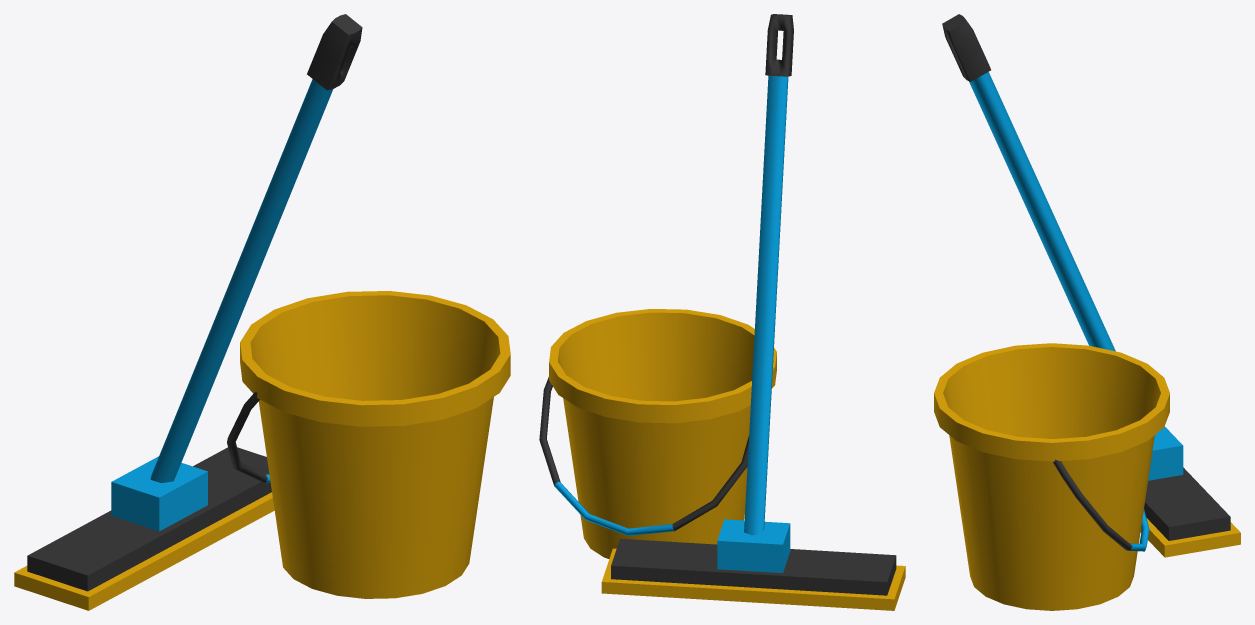
The model's file is Mop.fbx.
3 views of the same model, side by side, from view 1: azimuth 30°, elevation 25°; view 2: azimuth 150°, elevation 25°; view 3: azimuth 270°, elevation 25° (orthographic). The views are drawn at different scales.
Visible parts, largest first — view 1: Mop; view 2: Mop; view 3: Mop.
Boxes of the visible parts, bbox=[...] form: Mop: bbox=[14, 14, 510, 610]; Mop: bbox=[539, 14, 905, 610]; Mop: bbox=[934, 14, 1240, 610].
Size of the model in its own units: 109 by 141 by 74.97.
